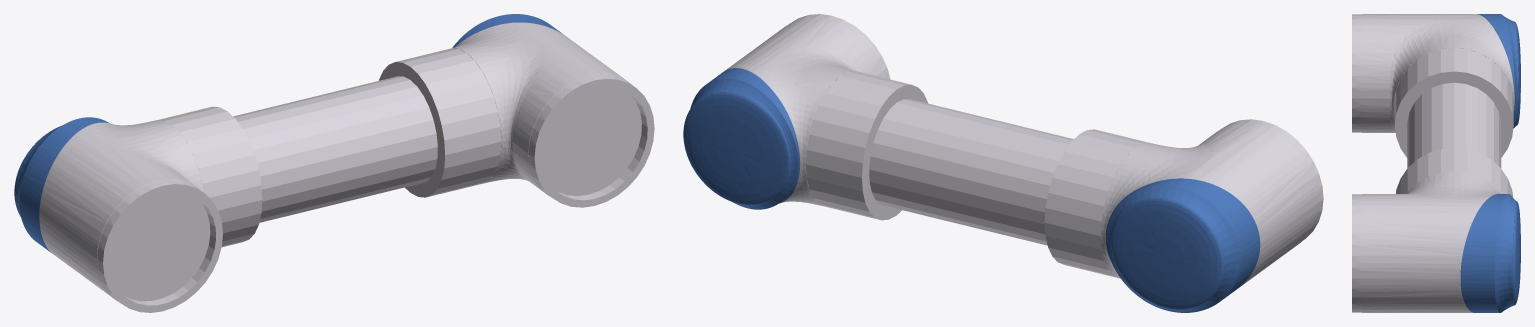
The picture shows the model from 3 angles, left to right: view 1: azimuth 30°, elevation 25°; view 2: azimuth 150°, elevation 25°; view 3: azimuth 270°, elevation 25°; orthographic projection. The views are drawn at different scales.
Visible parts, largest first — view 1: link2; view 2: link2; view 3: link2.
Boxes of the visible parts, x1,y1,x2,y2 form: link2: [14, 14, 654, 312]; link2: [683, 14, 1323, 312]; link2: [1352, 14, 1520, 312].
Size of the model in its own units: 0.55 by 0.1705 by 0.12.
